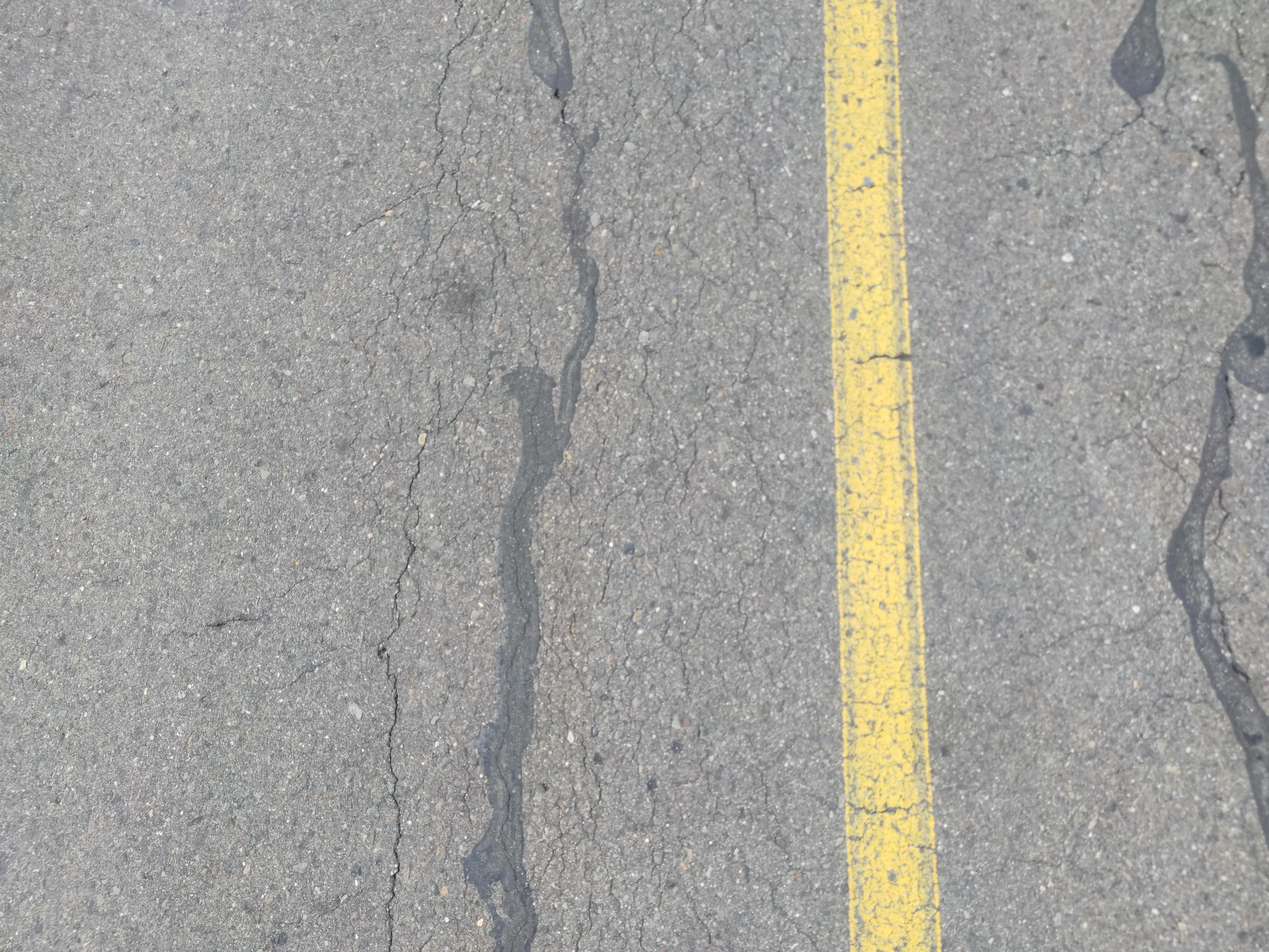GRIETA: (382, 438, 428, 645), (1163, 83, 1239, 198), (1016, 113, 1143, 159), (386, 673, 402, 952), (350, 199, 404, 235)
PARCHE: (1112, 0, 1164, 97)
PIEL DE COCODRILO: (541, 0, 827, 703), (333, 0, 554, 443), (529, 710, 840, 952)
